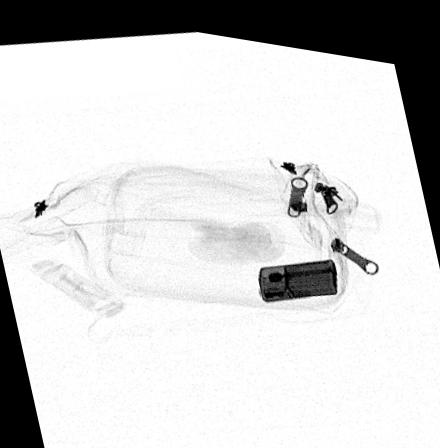Lighter: (258, 247, 338, 293)
